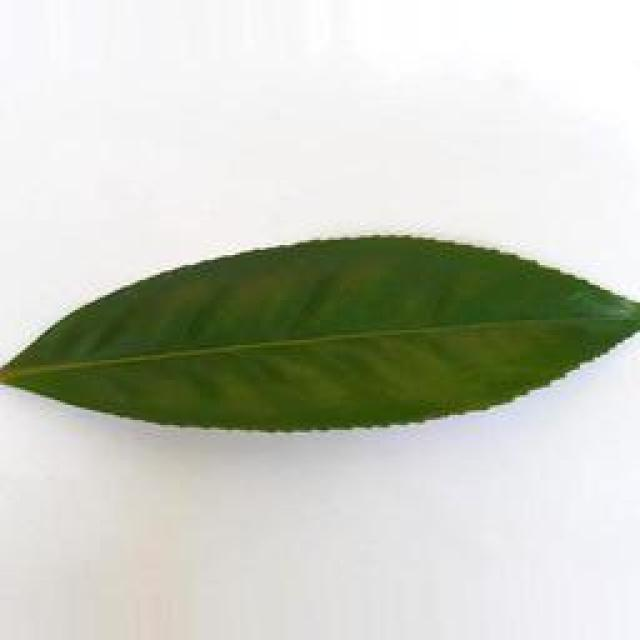Healthy: (0, 220, 640, 457)
